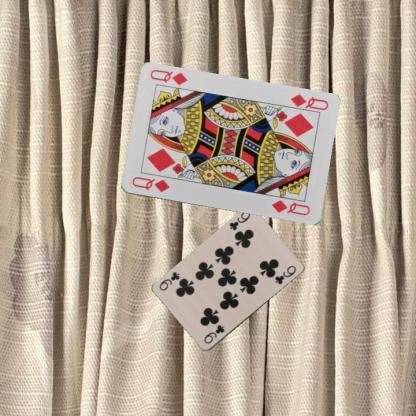9c: (201, 322, 226, 345), (226, 209, 251, 232)
Qd: (284, 92, 330, 115), (129, 173, 171, 194)
